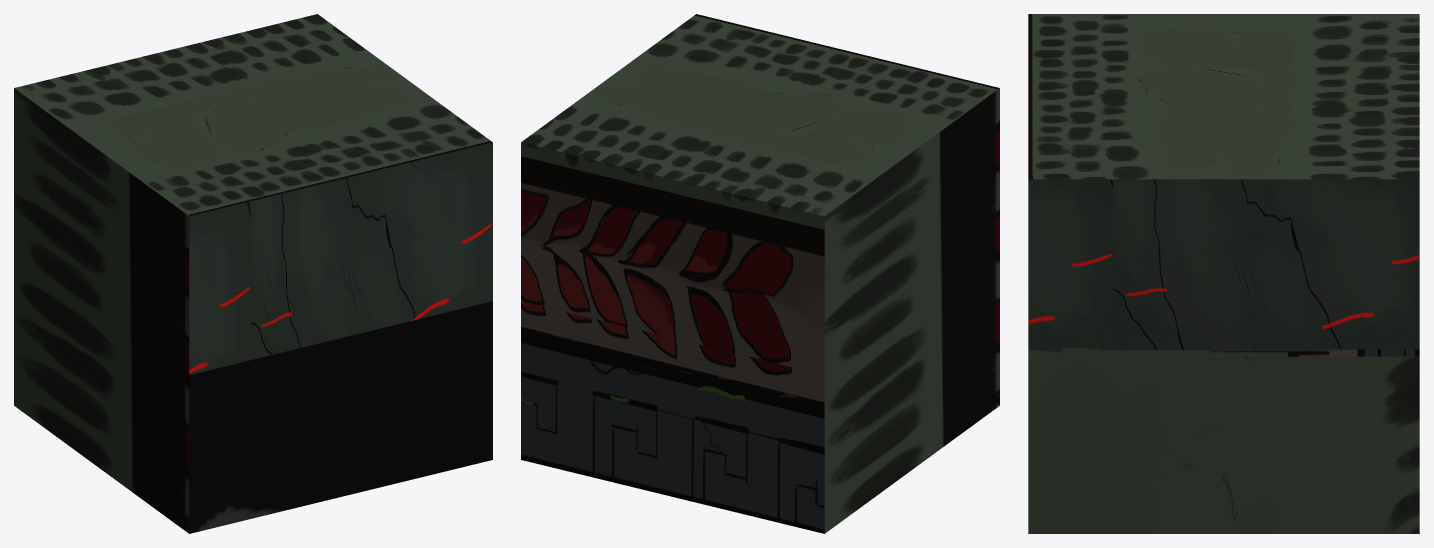
File: Hades tiles.fbx
3 renders of one model, left to right at view 1: azimuth 30°, elevation 25°; view 2: azimuth 150°, elevation 25°; view 3: azimuth 270°, elevation 25°, orthographic. The views are drawn at different scales.
Parts seen in each view (by area): view 1: Cube; view 2: Cube; view 3: Cube.
Boxes of the visible parts, <box> form: Cube: <box>14,14,492,533</box>; Cube: <box>521,14,999,533</box>; Cube: <box>1028,14,1419,533</box>.
Size of the model in its own units: 200 by 200 by 200.
1 material, 1 textured.
